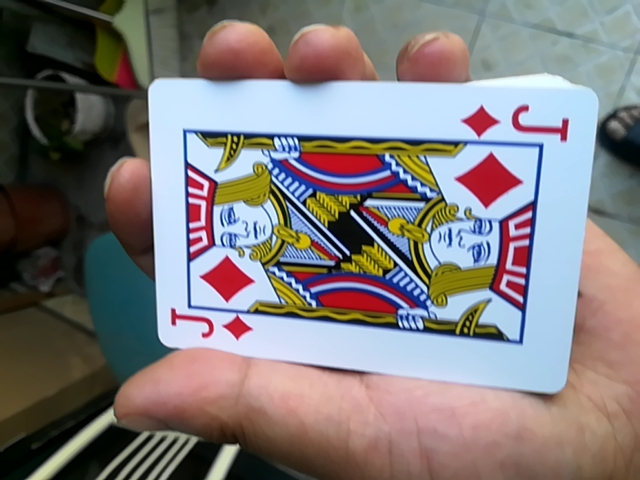fk j: (140, 72, 601, 379)
